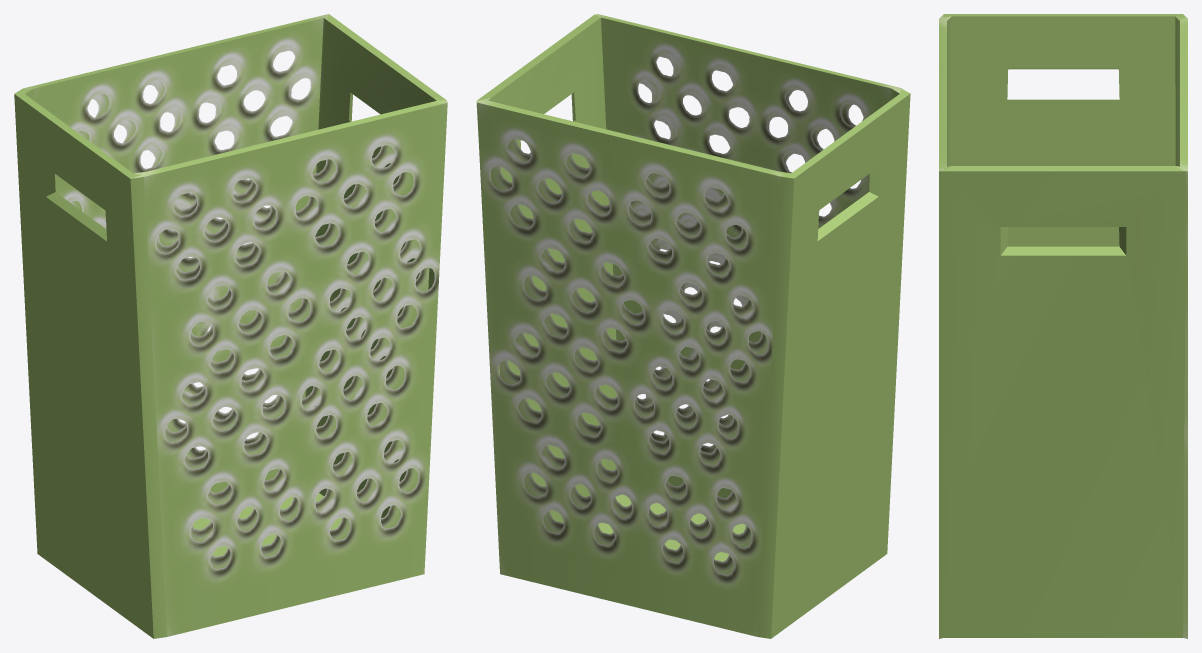
The model's file is Hamper_B.FBX.
3 renders of one model, left to right at view 1: azimuth 30°, elevation 25°; view 2: azimuth 150°, elevation 25°; view 3: azimuth 270°, elevation 25°, orthographic. The views are drawn at different scales.
Visible parts, largest first — view 1: Hamper; view 2: Hamper; view 3: Hamper.
Part boxes in pixels (<box>): Hamper: <box>14,14,447,638</box>; Hamper: <box>476,14,910,638</box>; Hamper: <box>939,14,1187,638</box>.
Size of the model in its own units: 105 by 148 by 69.41.
